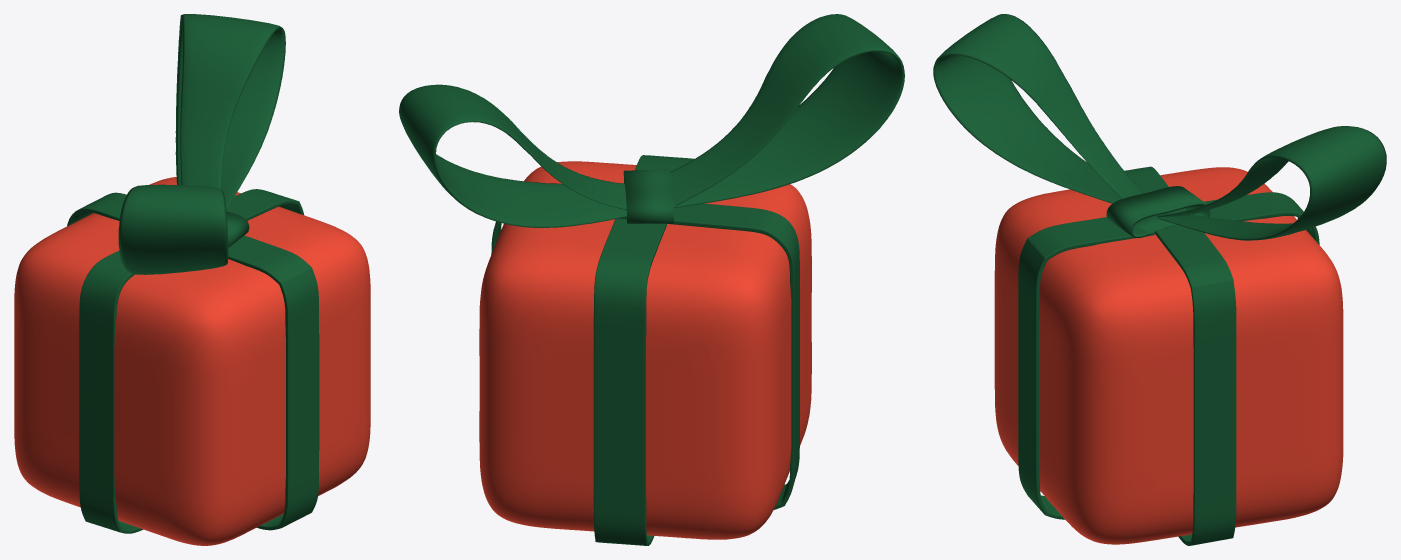
Rendered from present.glb.
3 renders of one model, left to right at view 1: azimuth 30°, elevation 25°; view 2: azimuth 150°, elevation 25°; view 3: azimuth 270°, elevation 25°, orthographic. The views are drawn at different scales.
Parts seen in each view (by area): view 1: Cube.017, NurbsPath, Cube.001, Cube.002, BezierCircle; view 2: Cube.017, NurbsPath, Cube.001, Cube.002, BezierCircle; view 3: Cube.017, NurbsPath, Cube.002, Cube.001, BezierCircle.
Boxes of the visible parts, box(x1,y1,x2,y2) form: Cube.017: box(14, 177, 370, 545); NurbsPath: box(118, 14, 285, 274); Cube.001: box(67, 192, 319, 530); Cube.002: box(79, 189, 303, 533); BezierCircle: box(226, 211, 249, 247); Cube.017: box(479, 161, 811, 539); NurbsPath: box(399, 14, 904, 227); Cube.001: box(593, 155, 694, 545); Cube.002: box(491, 203, 799, 509); BezierCircle: box(623, 169, 673, 223); Cube.017: box(994, 167, 1343, 544); NurbsPath: box(933, 14, 1386, 240); Cube.002: box(1124, 166, 1236, 545); Cube.001: box(1018, 192, 1319, 519); BezierCircle: box(1106, 186, 1210, 238).
Size of the model in its own units: 1.58 by 1.86 by 1.87.
